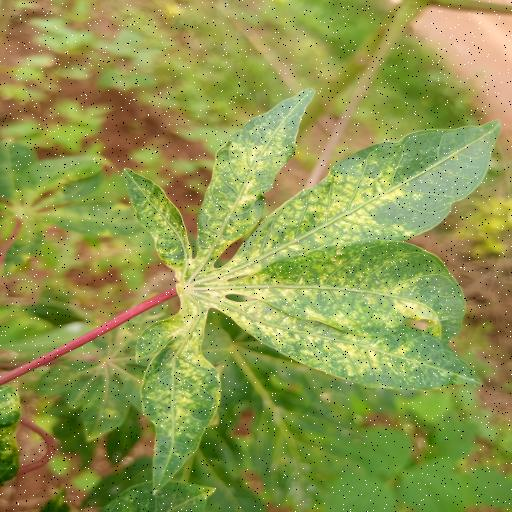Cassava_Mosaic: (119, 86, 512, 498)
